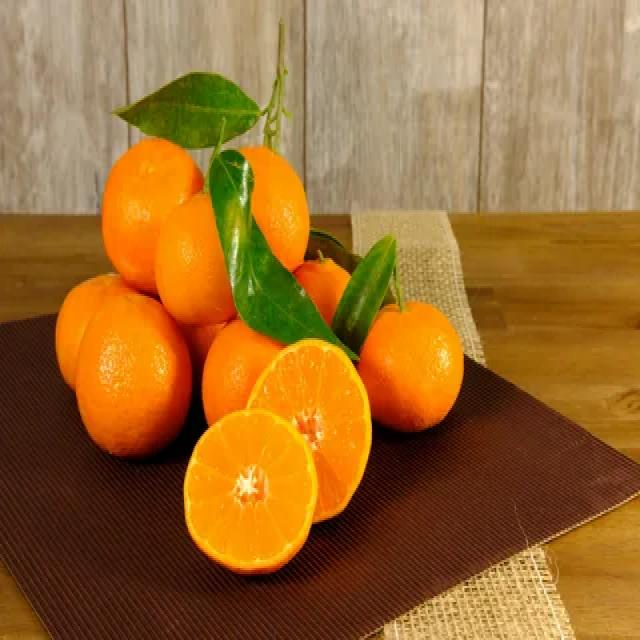orange: (72, 282, 192, 454), (360, 295, 474, 442)
